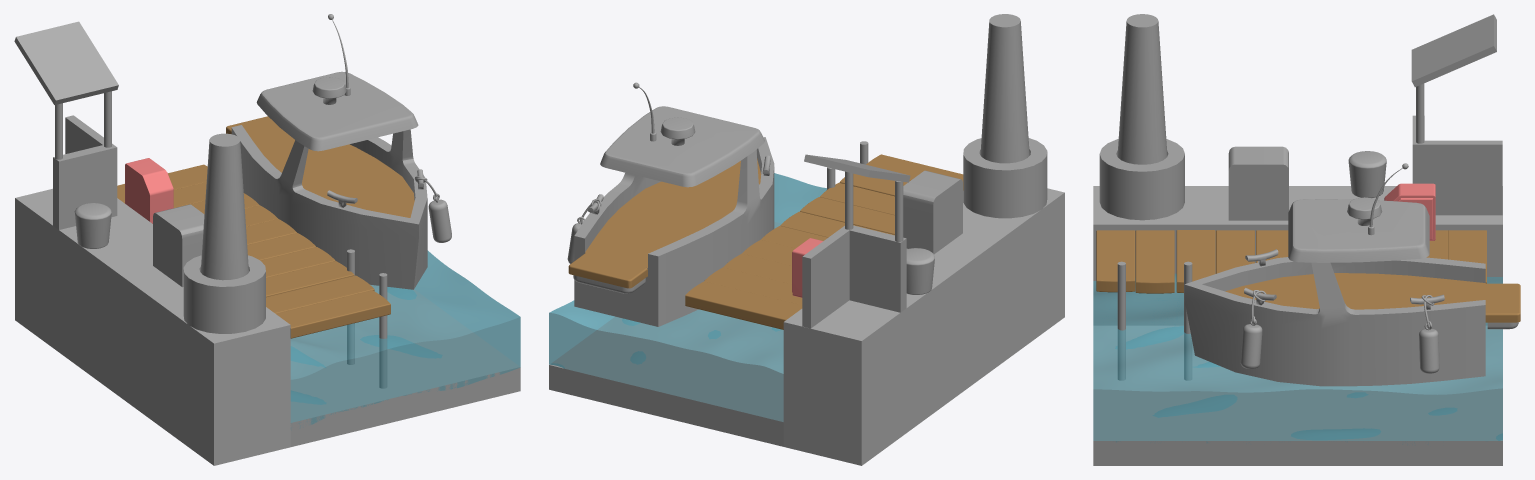
The model's file is UnfinishedDockExport.fbx.
3 renders of one model, left to right at view 1: azimuth 30°, elevation 25°; view 2: azimuth 150°, elevation 25°; view 3: azimuth 270°, elevation 25°, orthographic. The views are drawn at different scales.
Parts seen in each view (by area): view 1: ConcreteShell_WB, pPlane1, Sand_WB, polySurface4, BoatRoof, Tree_WB, BoothRoof_WB, BoothBase_WB, TreePot_WB, GasPump_WB, WoodBoard01, GasTank_WB (+13 smaller); view 2: ConcreteShell_WB, Sand_WB, polySurface4, pPlane1, BoothBase_WB, BoatRoof, Tree_WB, TreePot_WB, GasPump_WB, WoodBoard10, polySurface7, WoodBoard09 (+13 smaller); view 3: Sand_WB, pPlane1, polySurface4, ConcreteShell_WB, BoatRoof, BoothBase_WB, Tree_WB, TreePot_WB, GasPump_WB, BoothRoof_WB, WoodBoard02, WoodBoard01 (+13 smaller).
Boxes of the visible parts, <box> form: ConcreteShell_WB: <box>15,188,290,465</box>; pPlane1: <box>290,250,520,427</box>; Sand_WB: <box>290,285,520,446</box>; polySurface4: <box>231,125,427,289</box>; BoatRoof: <box>256,71,418,151</box>; Tree_WB: <box>200,133,248,280</box>; BoothRoof_WB: <box>14,21,118,104</box>; BoothBase_WB: <box>53,115,117,229</box>; TreePot_WB: <box>183,255,265,333</box>; GasPump_WB: <box>153,204,204,286</box>; WoodBoard01: <box>276,290,390,338</box>; GasTank_WB: <box>125,158,173,223</box>; ConcreteShell_WB: <box>783,188,1064,465</box>; Sand_WB: <box>549,222,783,446</box>; polySurface4: <box>574,137,774,326</box>; pPlane1: <box>549,173,826,421</box>; BoothBase_WB: <box>802,225,906,328</box>; BoatRoof: <box>600,106,764,187</box>; Tree_WB: <box>980,14,1029,163</box>; TreePot_WB: <box>963,138,1047,218</box>; GasPump_WB: <box>903,170,962,254</box>; WoodBoard10: <box>685,281,802,329</box>; polySurface7: <box>568,253,647,288</box>; WoodBoard09: <box>704,267,802,304</box>; Sand_WB: <box>1093,325,1502,465</box>; pPlane1: <box>1093,273,1502,444</box>; polySurface4: <box>1184,257,1485,386</box>; ConcreteShell_WB: <box>1093,186,1502,325</box>; BoatRoof: <box>1288,199,1429,262</box>; BoothBase_WB: <box>1412,115,1502,215</box>; Tree_WB: <box>1117,14,1167,164</box>; TreePot_WB: <box>1099,139,1184,220</box>; GasPump_WB: <box>1228,146,1288,220</box>; BoothRoof_WB: <box>1411,14,1496,87</box>; WoodBoard02: <box>1135,230,1174,293</box>; WoodBoard01: <box>1096,230,1135,292</box>.
Size of the model in its own units: 8.52 by 7.48 by 9.39.
